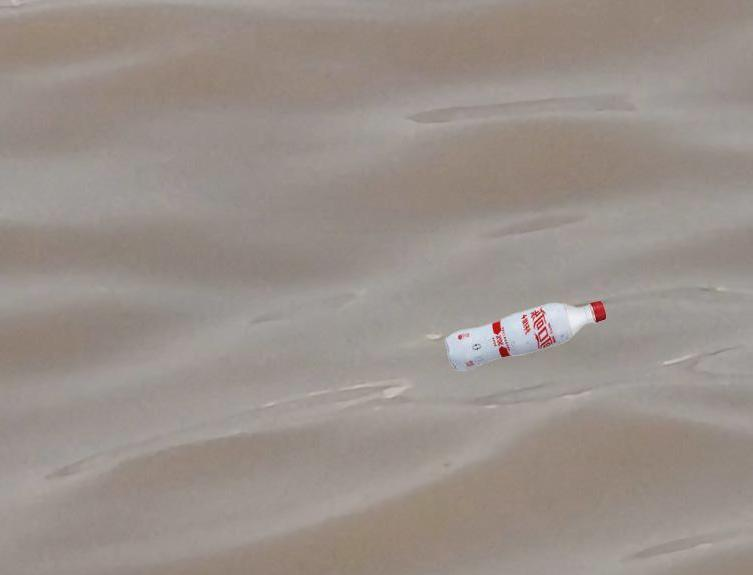Plastic: (443, 297, 607, 377)
